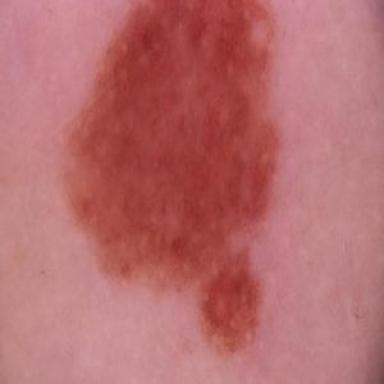Melanoma: (67, 0, 277, 352)
